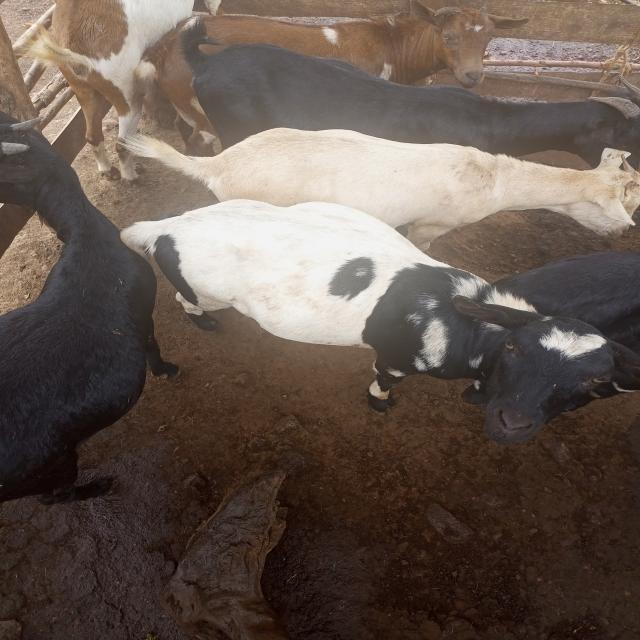goat: (84, 179, 640, 479)
